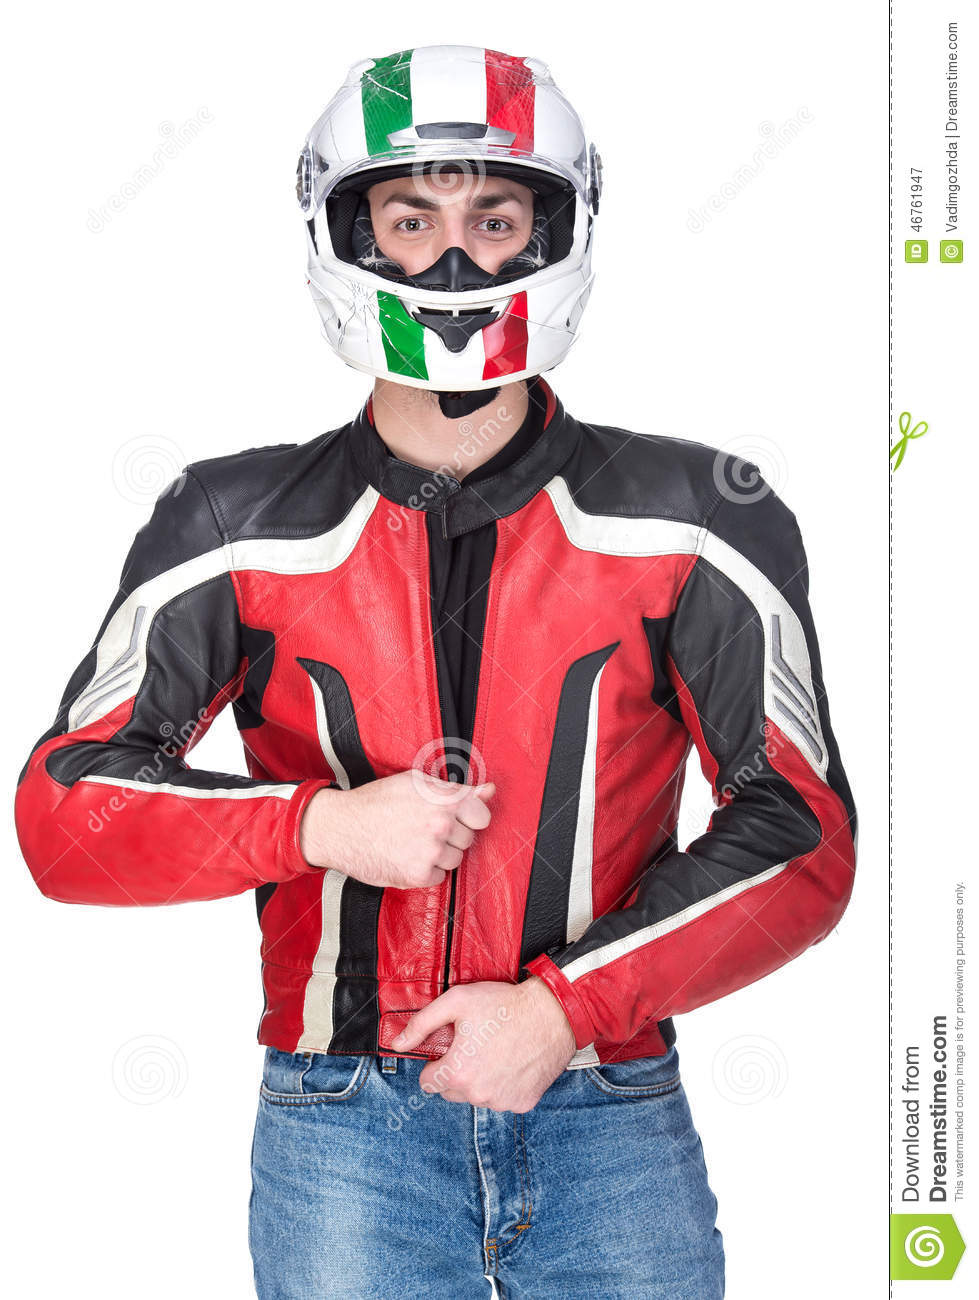helmet: (285, 41, 617, 391)
